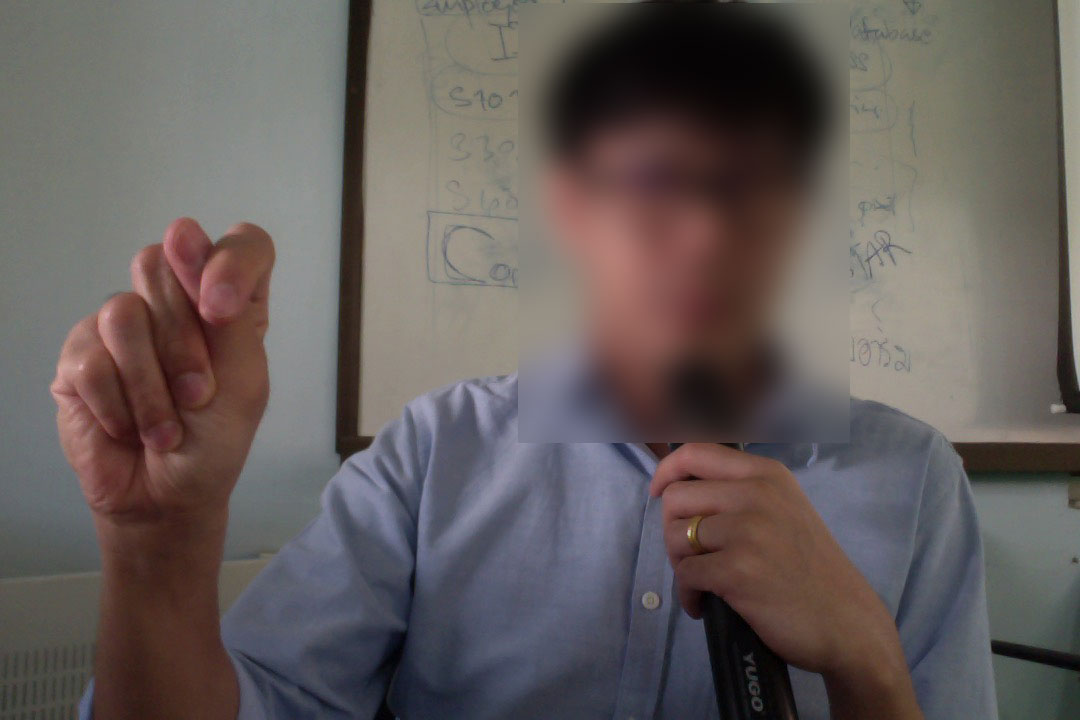tor: (43, 213, 287, 560)
